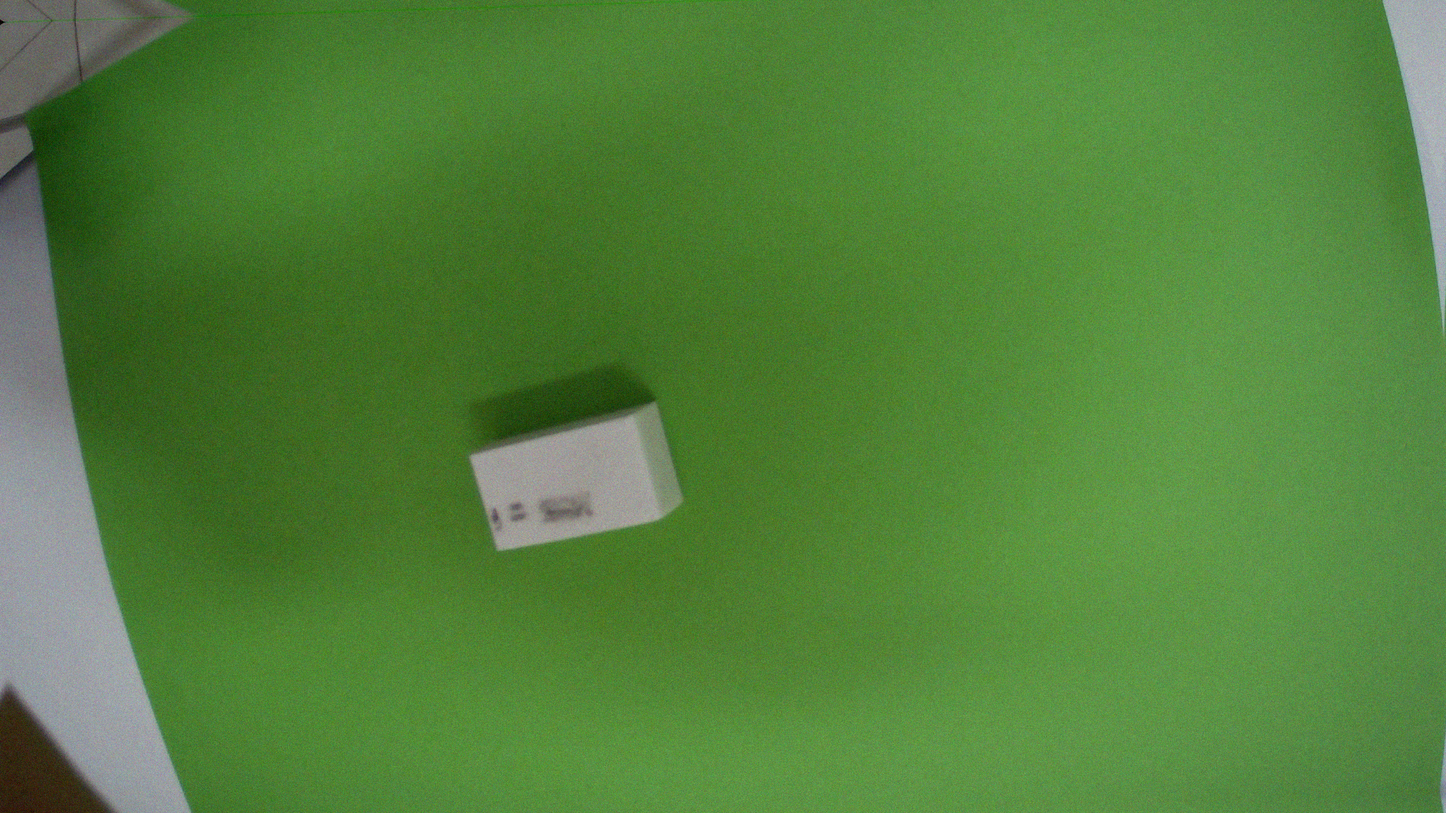gom: (470, 393, 682, 559)
